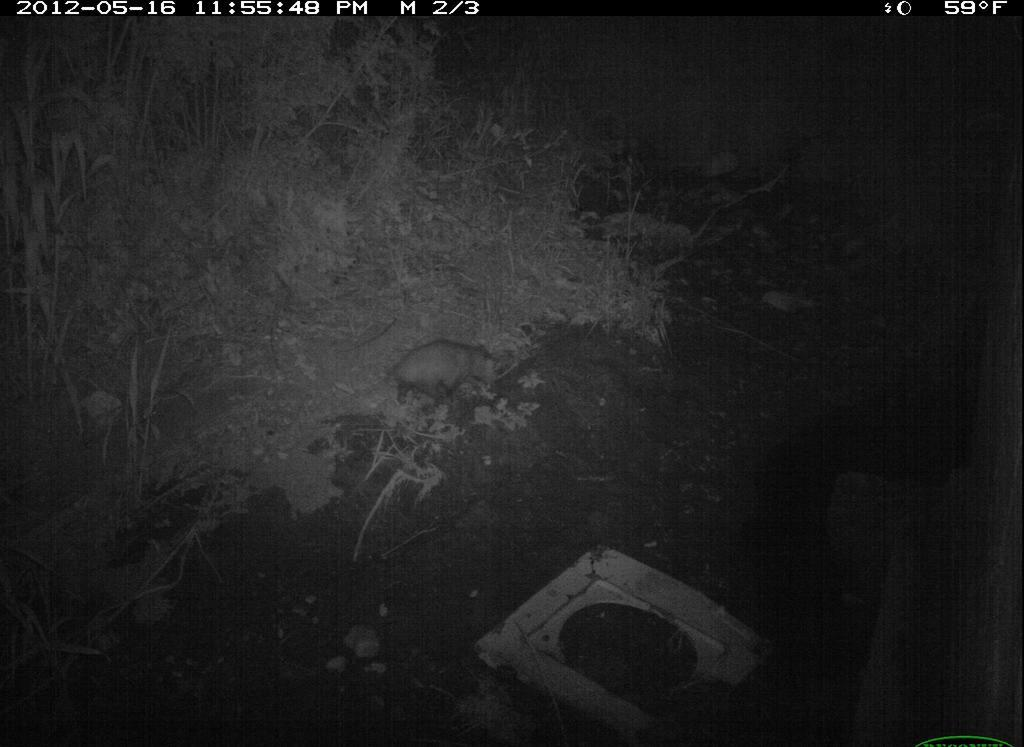opossum: (377, 332, 524, 422)
